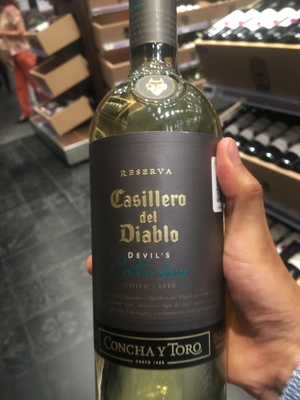casillero del diablo devils collection verde: (88, 1, 235, 392)
